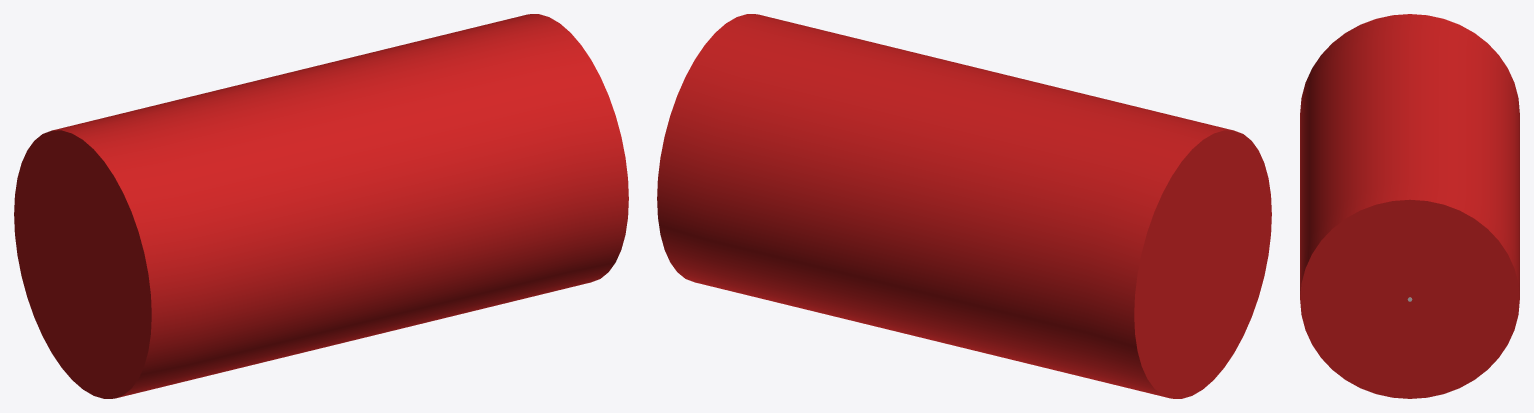
Rendered from Arena 3.fbx.
The picture shows the model from 3 angles, left to right: view 1: azimuth 30°, elevation 25°; view 2: azimuth 150°, elevation 25°; view 3: azimuth 270°, elevation 25°; orthographic projection. The views are drawn at different scales.
Parts seen in each view (by area): view 1: Border; view 2: Border; view 3: Border.
Part boxes in pixels (x1,y1,x2,y2): Border: (14,14,628,398); Border: (657,14,1271,398); Border: (1300,14,1519,398).
Bounding box in the file's own units: 200 × 100 × 100.
